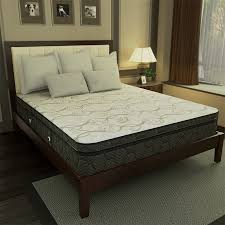bed-matress: (14, 78, 220, 177)
